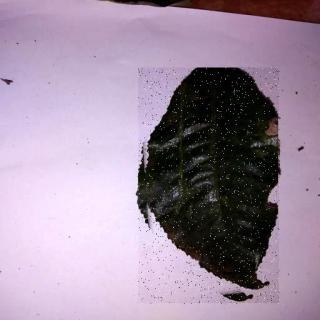Anthracnose: (140, 69, 281, 305)
